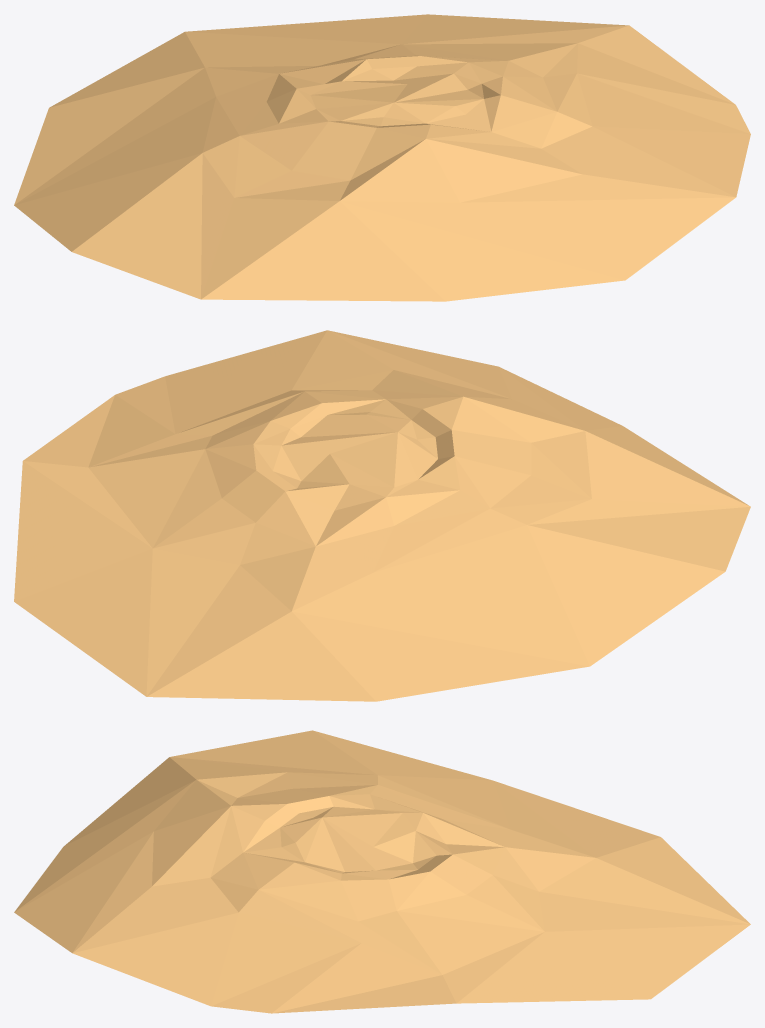
File: island.glb
The picture shows the model from 3 angles, top to bottom: view 1: azimuth 30°, elevation 25°; view 2: azimuth 150°, elevation 25°; view 3: azimuth 270°, elevation 25°; orthographic projection. The views are drawn at different scales.
Parts seen in each view (by area): view 1: Node; view 2: Node; view 3: Node.
Part boxes in pixels (x1,y1,x2,y2): Node: [14, 14, 750, 301]; Node: [14, 330, 750, 701]; Node: [14, 730, 750, 1013].
Size of the model in its own units: 0.9842 by 0.1593 by 1.06.
